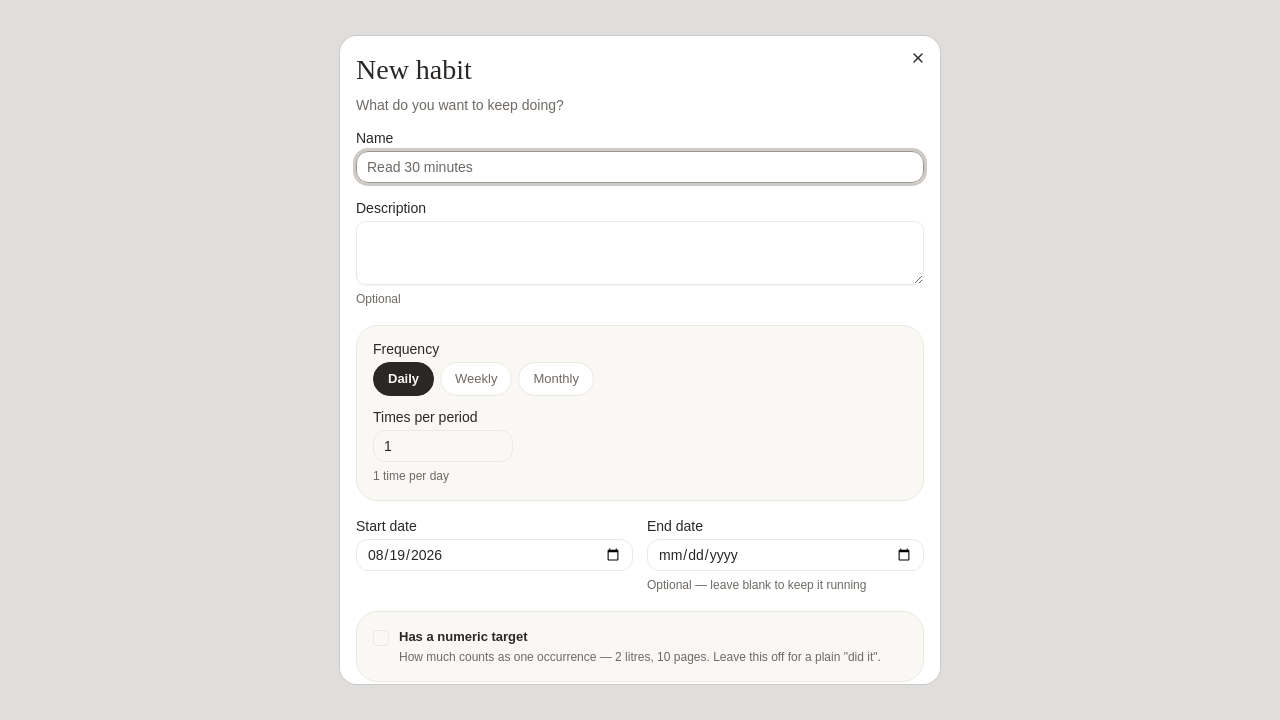
Scenario: HabitFormDialog › refuses a frequency target the CHECK constraint would reject
The width and height of the screenshot is (1280, 720).
Type "Run" into the field labelled "Name". click: (640, 167)
box: 356,151 -> 924,183
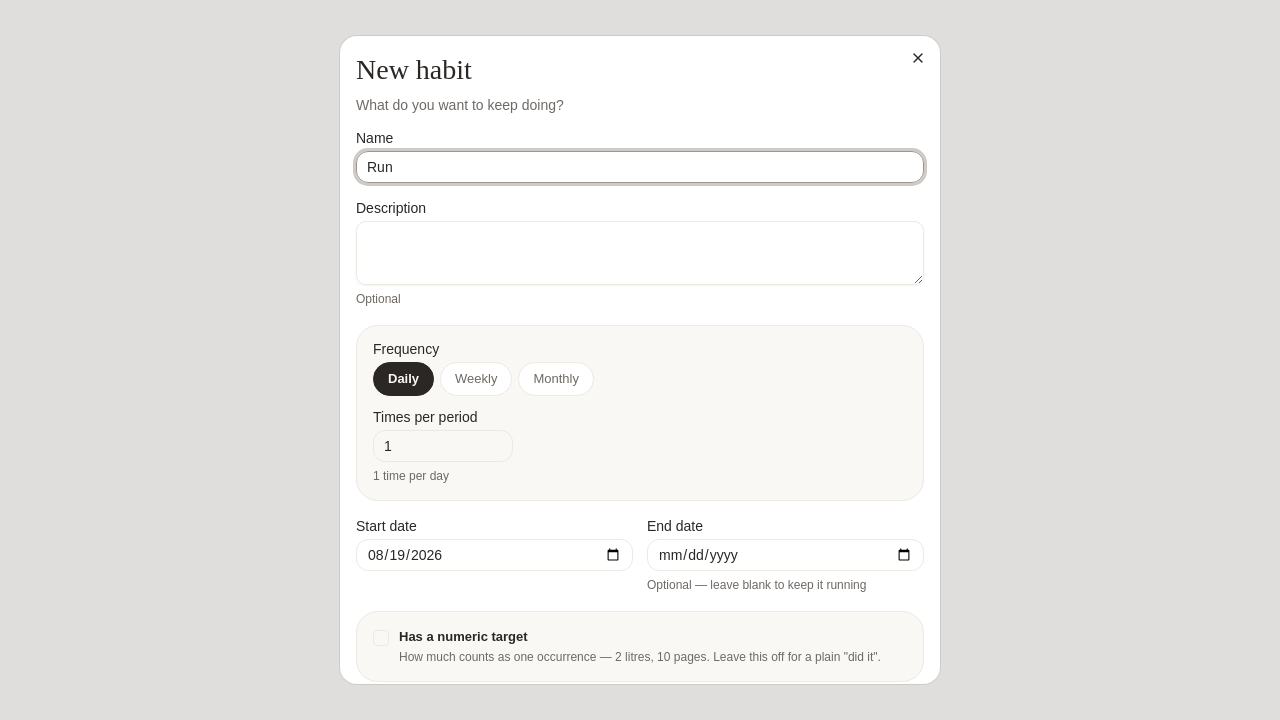
Replace the text in the field labelled "Times per period" with "0". click: (443, 446)
box: 373,430 -> 513,462
(page scrolled)
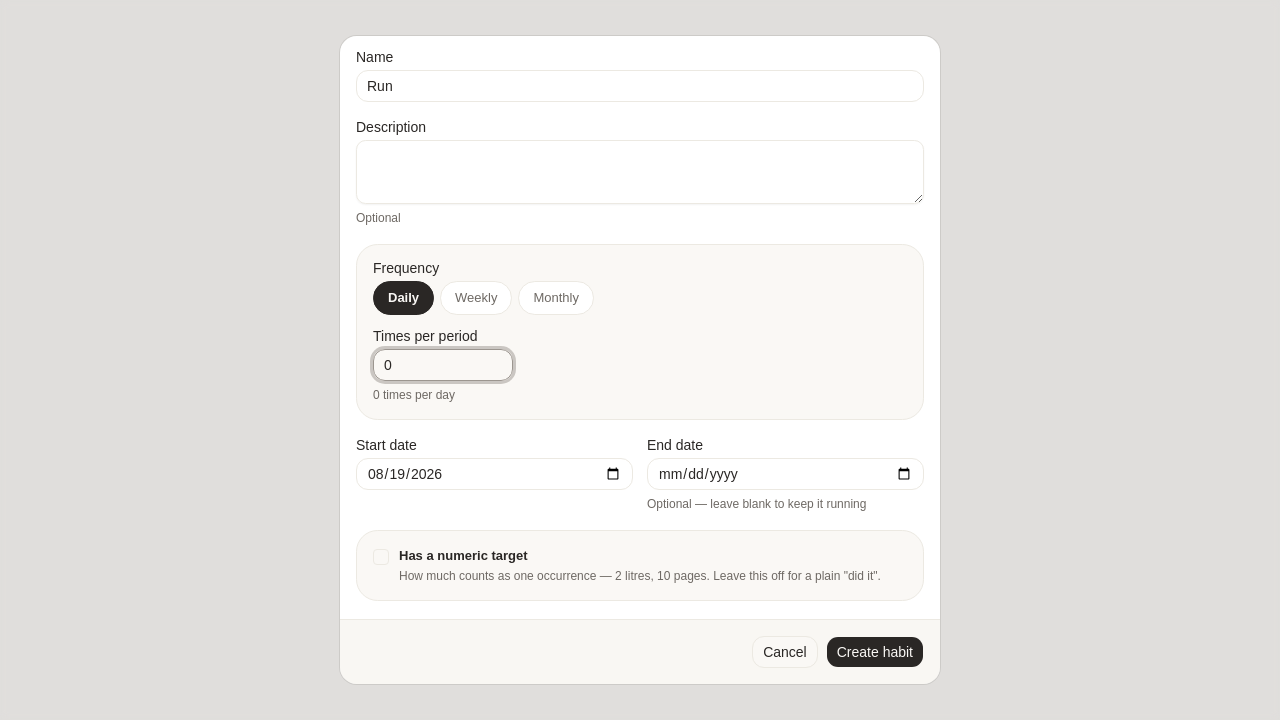
Click the button "Create habit". click: (875, 652)
box: 826,636 -> 924,668
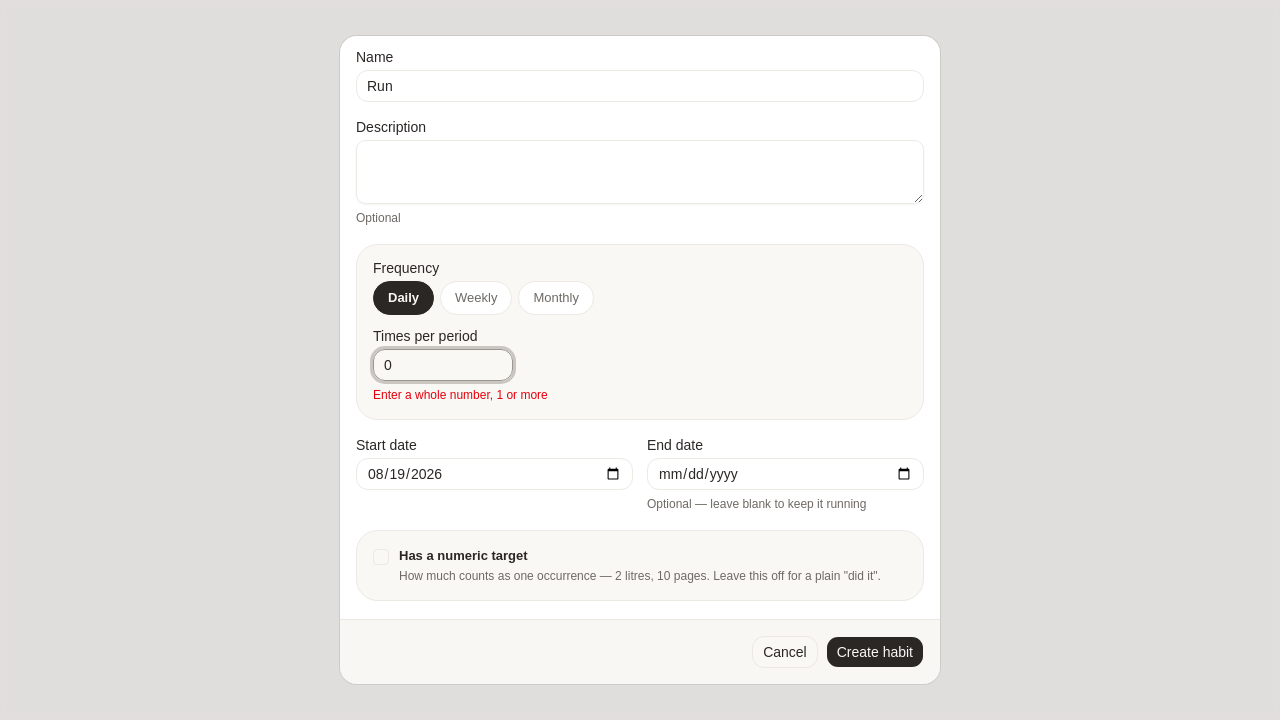
expect the text "Enter a whole number, 1 or more" is shown: met, box 373,388 -> 548,402
